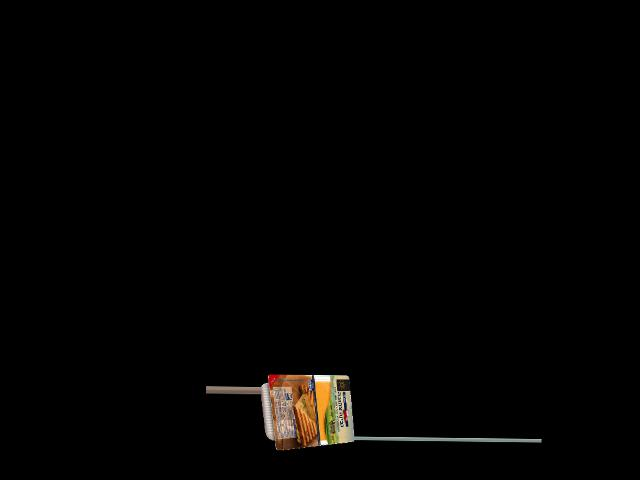cheese: (259, 377, 354, 449)
